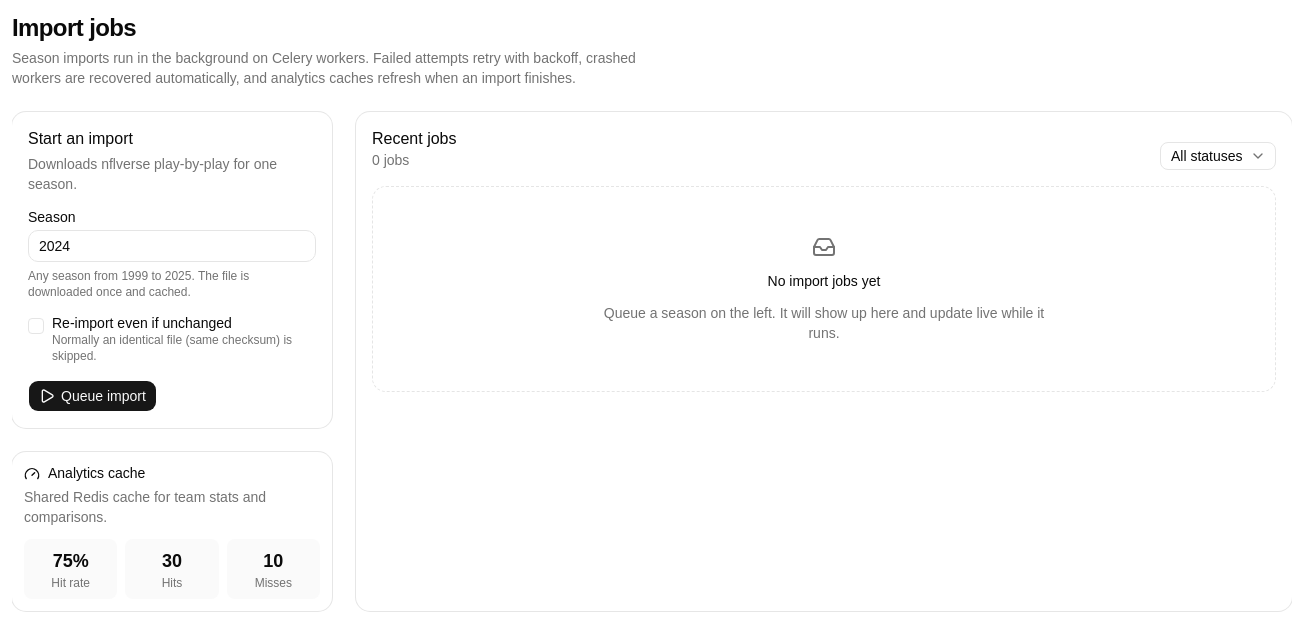
JobsPage › submits with an Idempotency-Key and polls the job until it finishes
The image size is (1292, 629).
Replace the text in the number field labelled "Season" with "2023": (172, 246) [28,230,316,262]
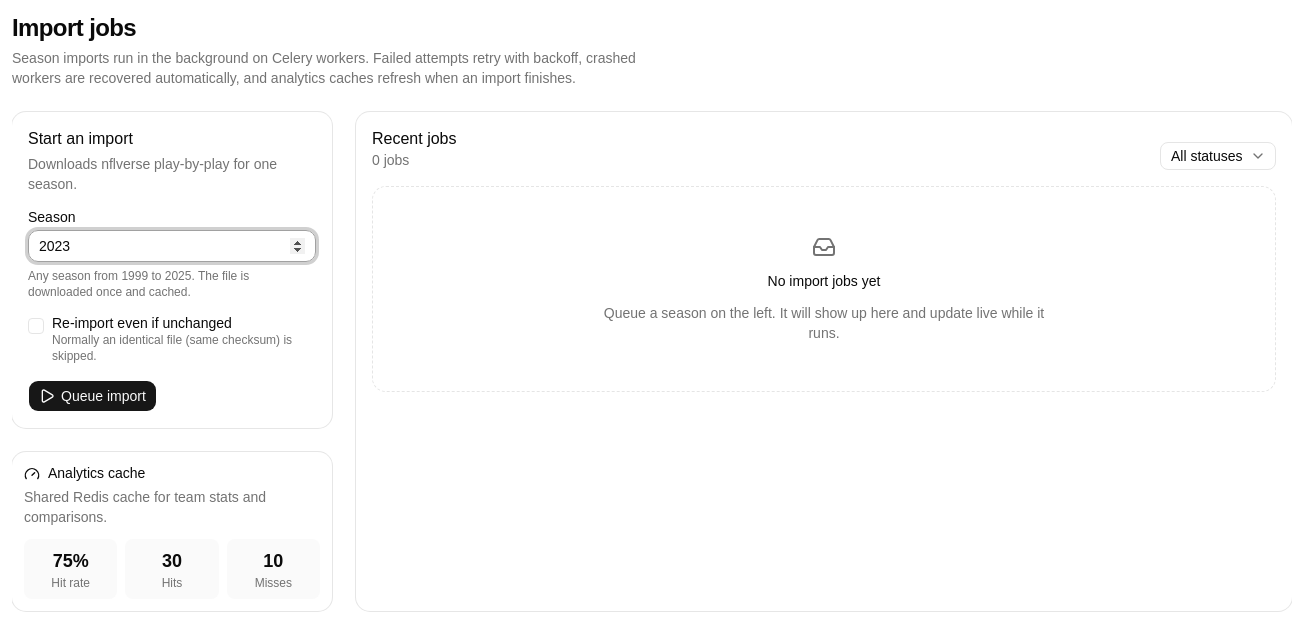
Click the button "Queue import": (92, 396) [28,380,157,412]
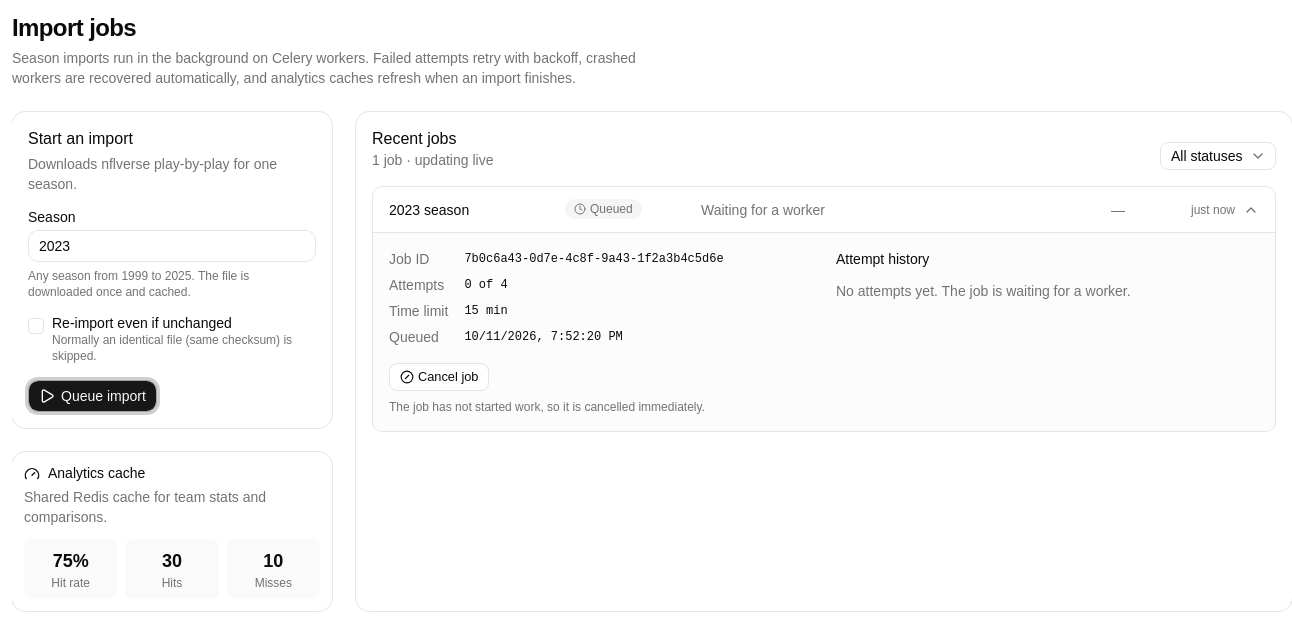
Check: the text "Waiting for a worker" is shown, box [701,202,825,218]
